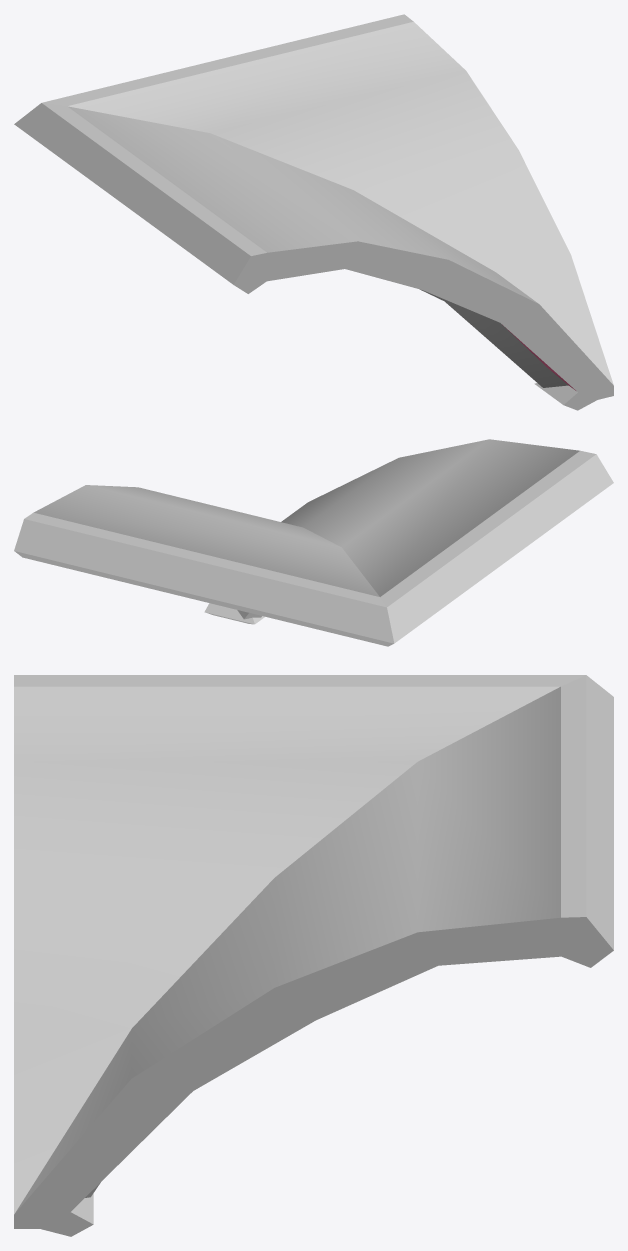
The model's file is SM_Bld_Roof_M_Convex_Corner_In_01.fbx.
3 views of the same model, one above another, from view 1: azimuth 30°, elevation 25°; view 2: azimuth 150°, elevation 25°; view 3: azimuth 270°, elevation 25° (orthographic). The views are drawn at different scales.
Visible parts, largest first — view 1: SM_Bld_Roof_M_Convex_Corner_In_01; view 2: SM_Bld_Roof_M_Convex_Corner_In_01; view 3: SM_Bld_Roof_M_Convex_Corner_In_01.
Boxes of the visible parts, <box> form: SM_Bld_Roof_M_Convex_Corner_In_01: <box>14,14,613,410</box>; SM_Bld_Roof_M_Convex_Corner_In_01: <box>14,439,613,646</box>; SM_Bld_Roof_M_Convex_Corner_In_01: <box>14,675,613,1236</box>.
Size of the model in its own units: 262 by 154 by 262.
